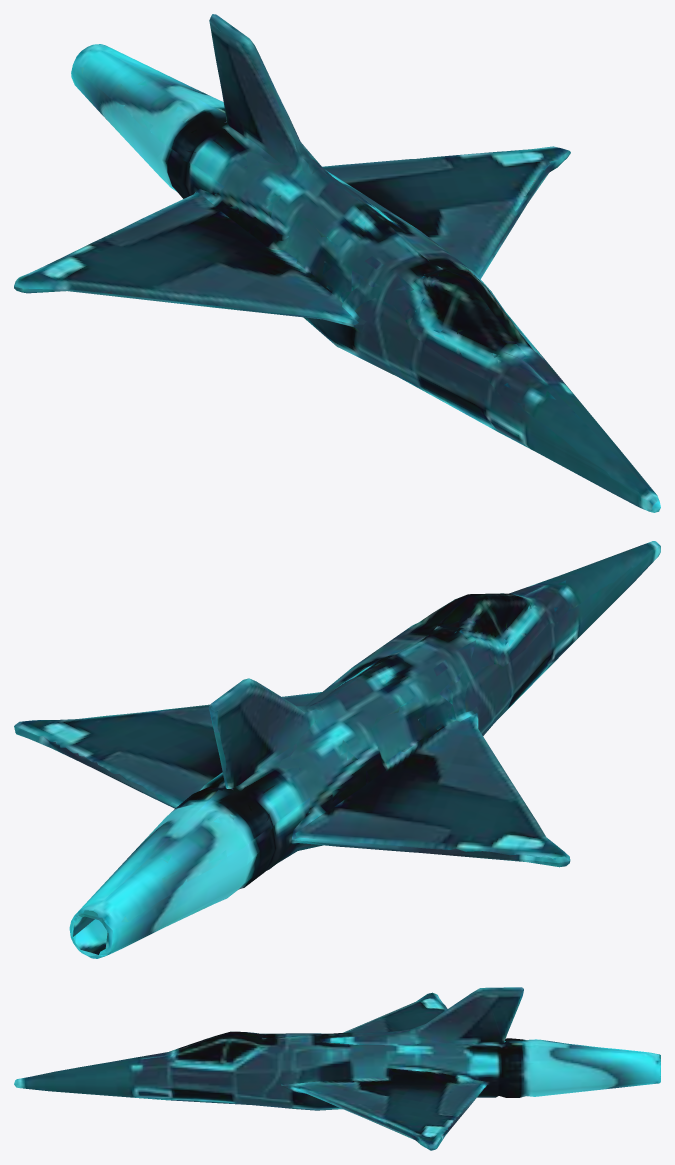
File: enemy-fast-s8.glb
3 views of the same model, one above another, from view 1: azimuth 30°, elevation 25°; view 2: azimuth 150°, elevation 25°; view 3: azimuth 270°, elevation 25° (orthographic). The views are drawn at different scales.
Parts seen in each view (by area): view 1: 0d4ac1ae-262d-4840-a102-0316f931499f_texturing.obj; view 2: 0d4ac1ae-262d-4840-a102-0316f931499f_texturing.obj; view 3: 0d4ac1ae-262d-4840-a102-0316f931499f_texturing.obj.
Part boxes in pixels (bbox=[...]): 0d4ac1ae-262d-4840-a102-0316f931499f_texturing.obj: bbox=[14, 14, 660, 512]; 0d4ac1ae-262d-4840-a102-0316f931499f_texturing.obj: bbox=[14, 541, 660, 958]; 0d4ac1ae-262d-4840-a102-0316f931499f_texturing.obj: bbox=[14, 987, 660, 1150].
Bounding box in the file's own units: 1.13 × 0.3797 × 1.99.
Materials: 1 (1 with a texture image).
